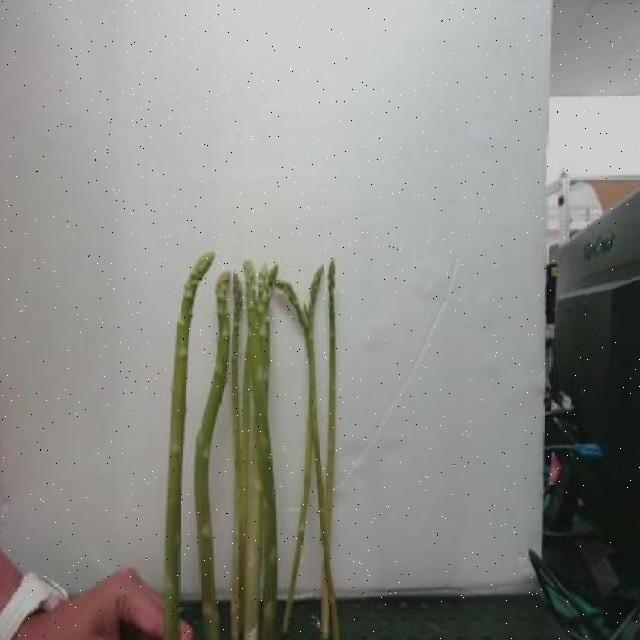aspargus: (165, 252, 214, 640), (275, 280, 316, 637), (194, 267, 231, 637), (319, 262, 336, 640)
